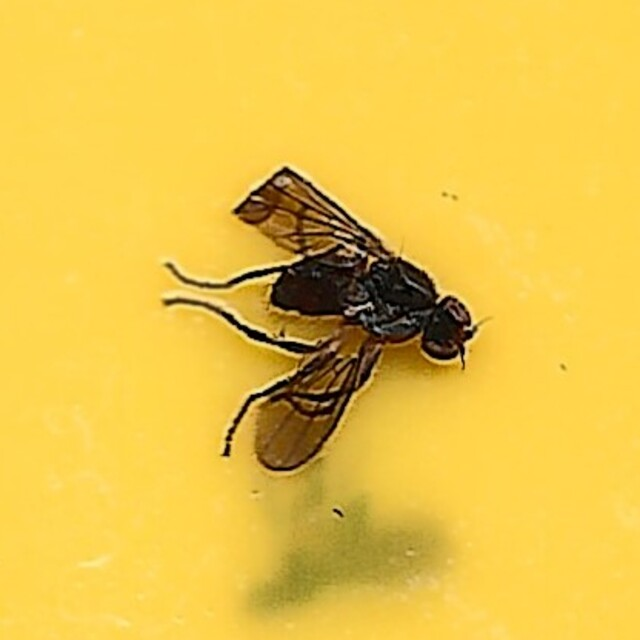Brachycera: (154, 166, 486, 474)
